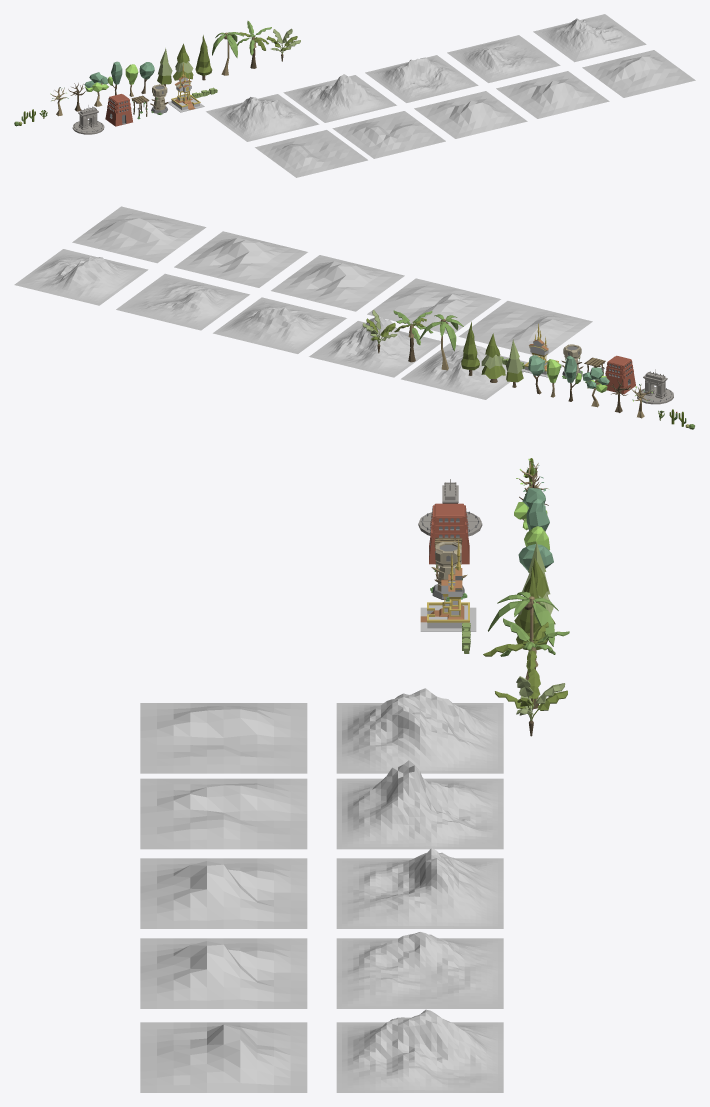
3 views of the same model, one above another, from view 1: azimuth 30°, elevation 25°; view 2: azimuth 150°, elevation 25°; view 3: azimuth 270°, elevation 25° (orthographic). The views are drawn at different scales.
Visible parts, largest first — view 1: Hill_E, Hill_D, Hill_A, Hill_C, Land_B, Land_D, Land_E, Land_A, Land_C, Hill_B, Fortress, Temple (+10 smaller); view 2: Hill_A, Land_C, Hill_B, Land_D, Land_E, Hill_C, Hill_D, Land_A, Land_B, Hill_E, Fortress, Gate (+10 smaller); view 3: Hill_D, Hill_A, Hill_E, Hill_C, Land_B, Hill_B, Land_A, Land_C, Land_D, Land_E, Temple, Fortress (+4 smaller).
Boxes of the visible parts, bbox=[...] form: Hill_E: bbox=[206, 94, 319, 141]; Hill_D: bbox=[283, 74, 396, 122]; Hill_A: bbox=[533, 14, 646, 62]; Hill_C: bbox=[365, 55, 478, 102]; Land_B: bbox=[332, 111, 445, 158]; Land_D: bbox=[496, 71, 609, 118]; Land_E: bbox=[582, 50, 695, 97]; Land_A: bbox=[255, 130, 367, 177]; Land_C: bbox=[414, 91, 527, 138]; Hill_B: bbox=[447, 35, 560, 82]; Fortress: bbox=[105, 94, 132, 126]; Temple: bbox=[168, 63, 204, 112]; Hill_A: bbox=[14, 249, 148, 305]; Land_C: bbox=[271, 255, 404, 311]; Hill_B: bbox=[116, 273, 249, 330]; Land_D: bbox=[174, 231, 307, 287]; Land_E: bbox=[72, 206, 206, 263]; Hill_C: bbox=[213, 297, 346, 353]; Hill_D: bbox=[309, 317, 440, 377]; Land_A: bbox=[458, 301, 592, 356]; Land_B: bbox=[367, 278, 500, 333]; Hill_E: bbox=[401, 343, 527, 399]; Fortress: bbox=[605, 355, 635, 394]; Gate: bbox=[636, 369, 673, 404]; Hill_D: bbox=[336, 760, 503, 849]; Hill_A: bbox=[336, 1009, 503, 1092]; Hill_E: bbox=[336, 688, 503, 773]; Hill_C: bbox=[336, 848, 503, 928]; Land_B: bbox=[140, 778, 307, 849]; Hill_B: bbox=[336, 932, 503, 1008]; Land_A: bbox=[140, 703, 307, 773]; Land_C: bbox=[140, 858, 307, 928]; Land_D: bbox=[140, 938, 307, 1008]; Land_E: bbox=[140, 1022, 307, 1092]; Temple: bbox=[420, 539, 476, 631]; Fortress: bbox=[429, 503, 469, 564].
Size of the model in its own units: 4846 by 563 by 1542.
